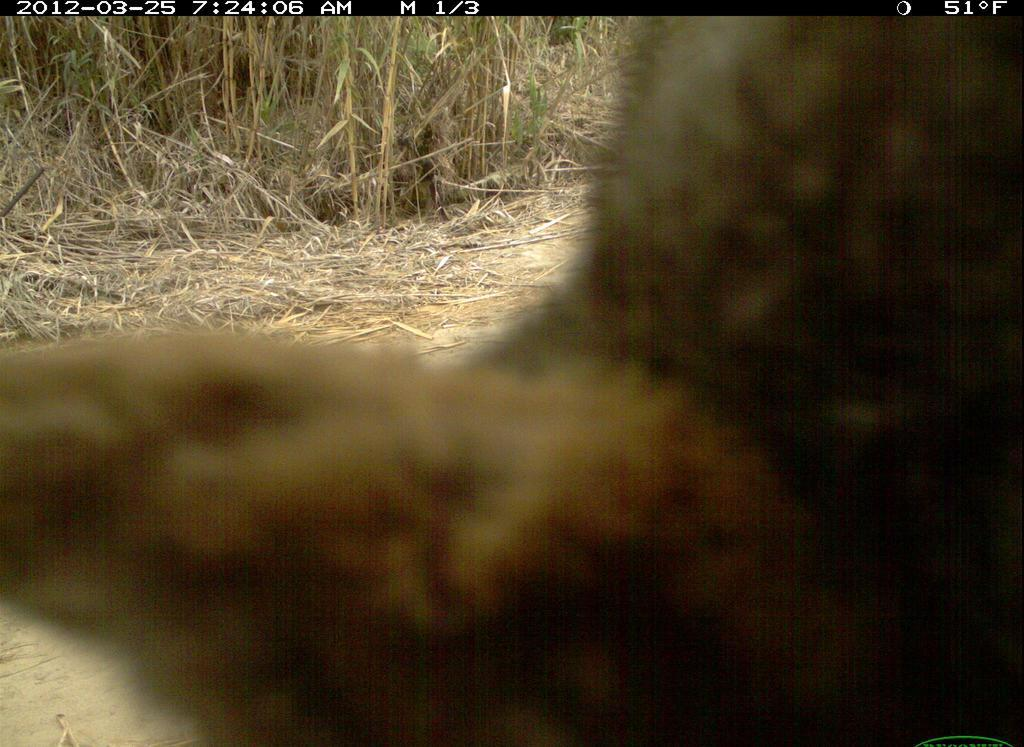coyote: (8, 7, 1019, 738)
